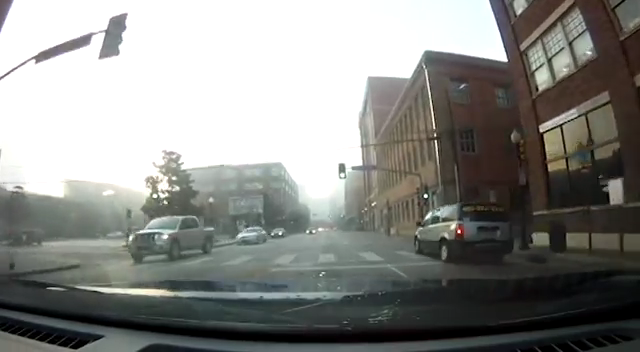car: (414, 201, 514, 262), (127, 215, 216, 263), (236, 227, 267, 245), (271, 228, 286, 237), (305, 227, 317, 235)
